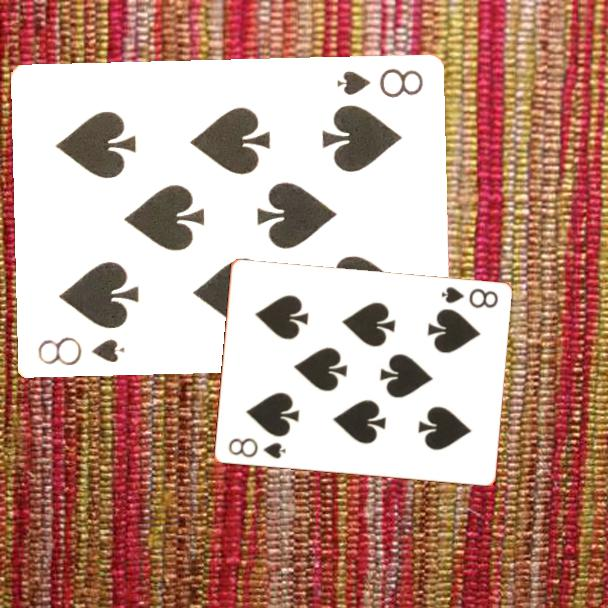s08: (333, 65, 425, 101), (34, 334, 127, 369), (437, 283, 501, 311), (224, 435, 288, 462)
